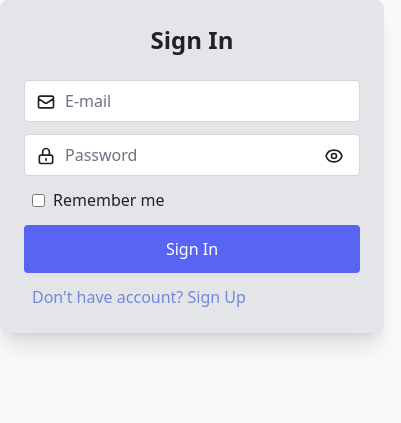
Test: SignInForm validation › Should display error message if email field is empty
Click the button with aria-label "sign-in-button": (192, 248) [24,224,360,272]
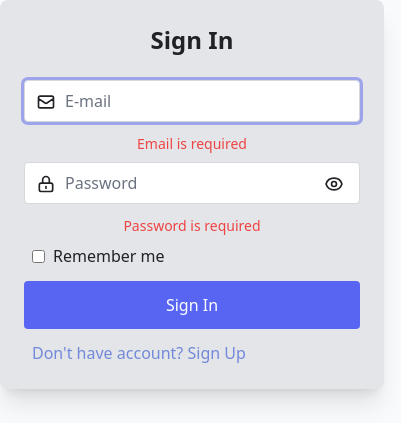
expect the text "Email is required" is shown: met, box [137,134,247,153]
